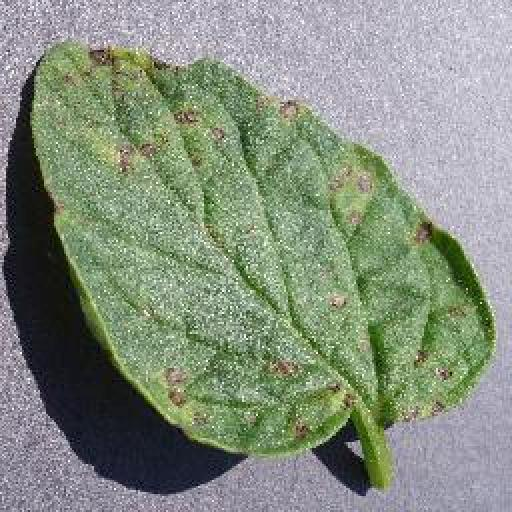disease_tomato: (35, 30, 499, 456)
